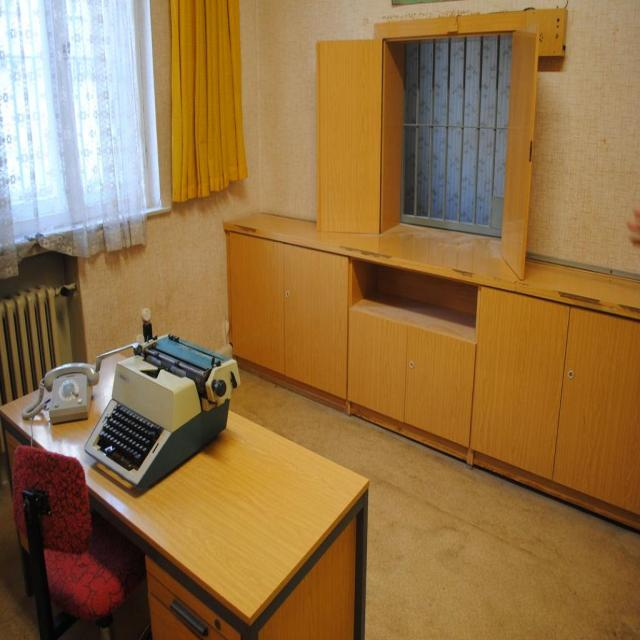Table: (0, 346, 371, 640)
